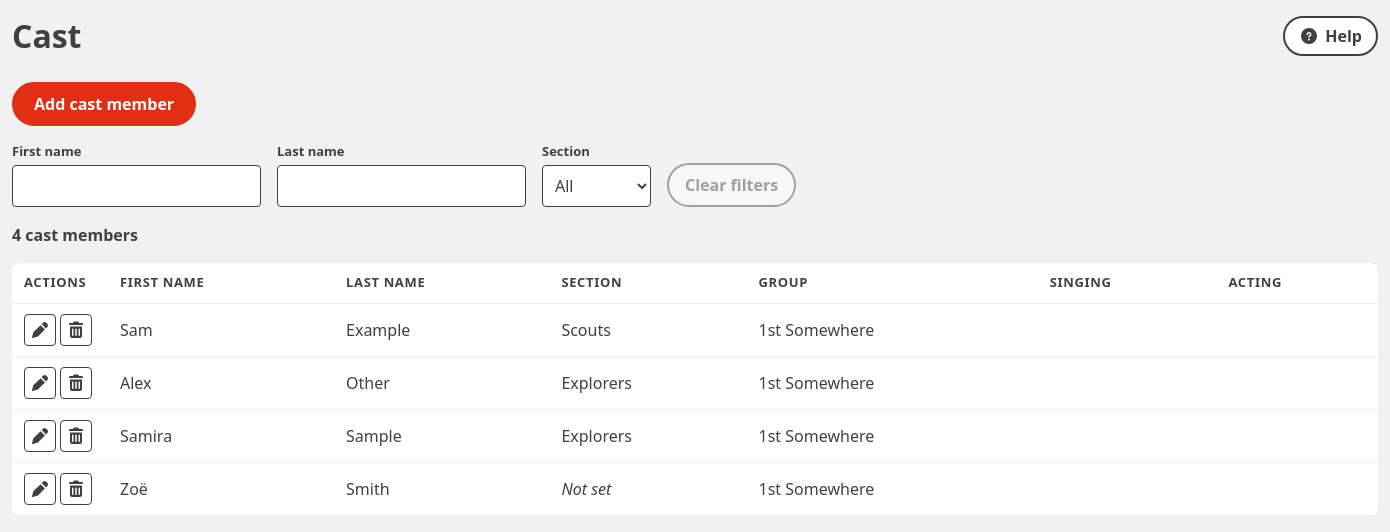
Test case: Cast page › filtering › clears every filter in one go
In the search field named "firstName": {"x": 136, "y": 186} [12,165,261,207], type "sam"
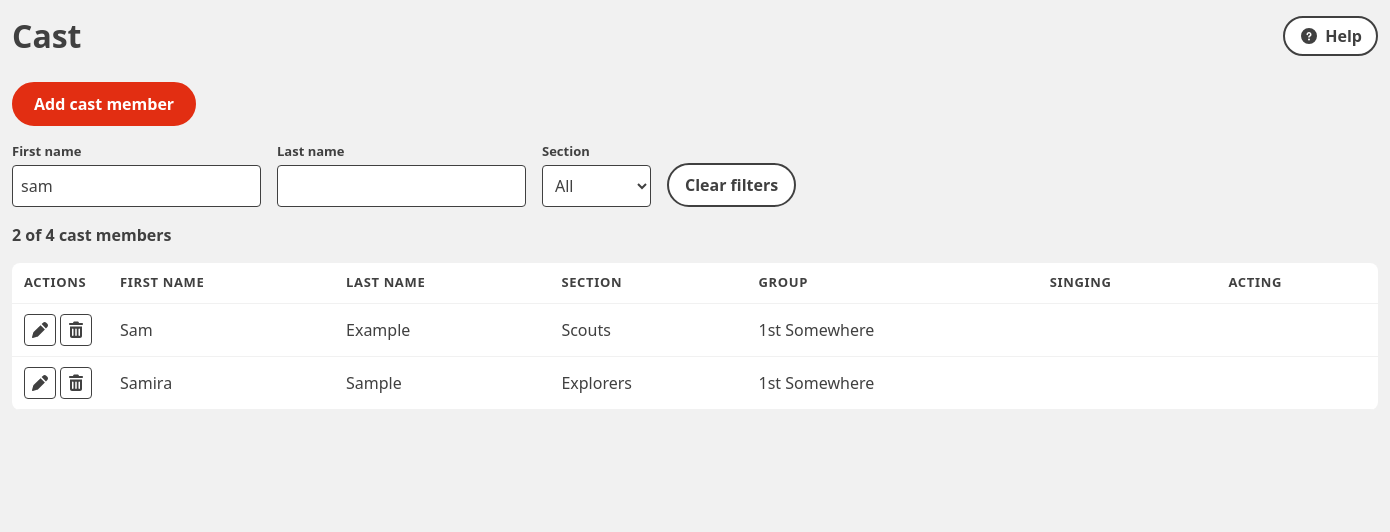
Select "Scouts" in the dropdown named "section": {"x": 596, "y": 186} [542,165,651,207]
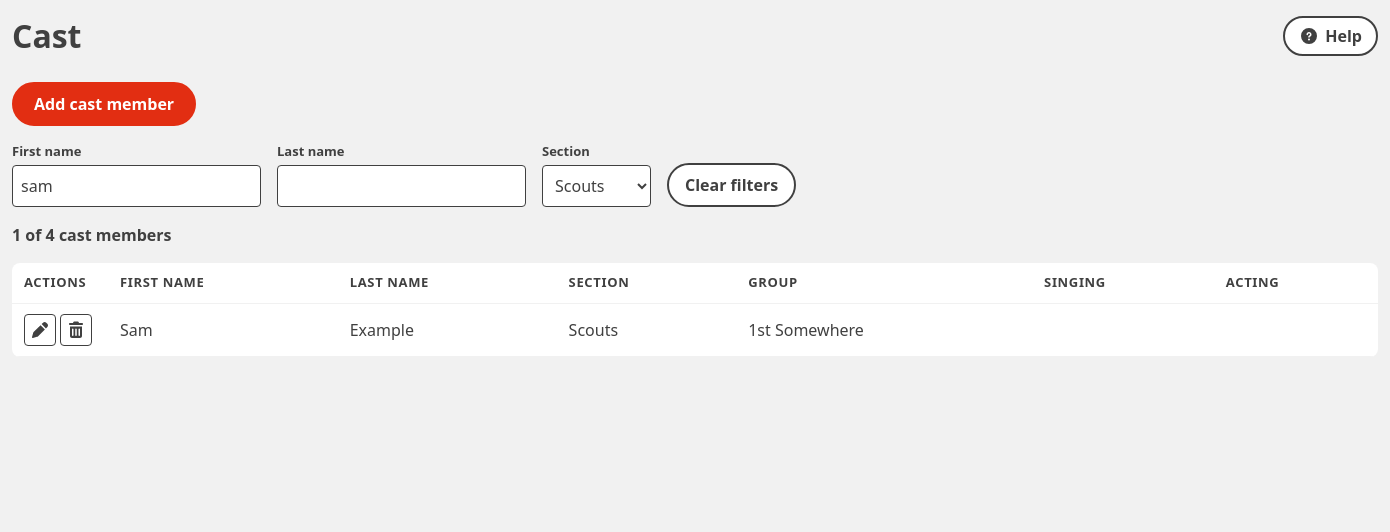
Click the button with test id "clear-filters": {"x": 732, "y": 185} [667,163,796,207]
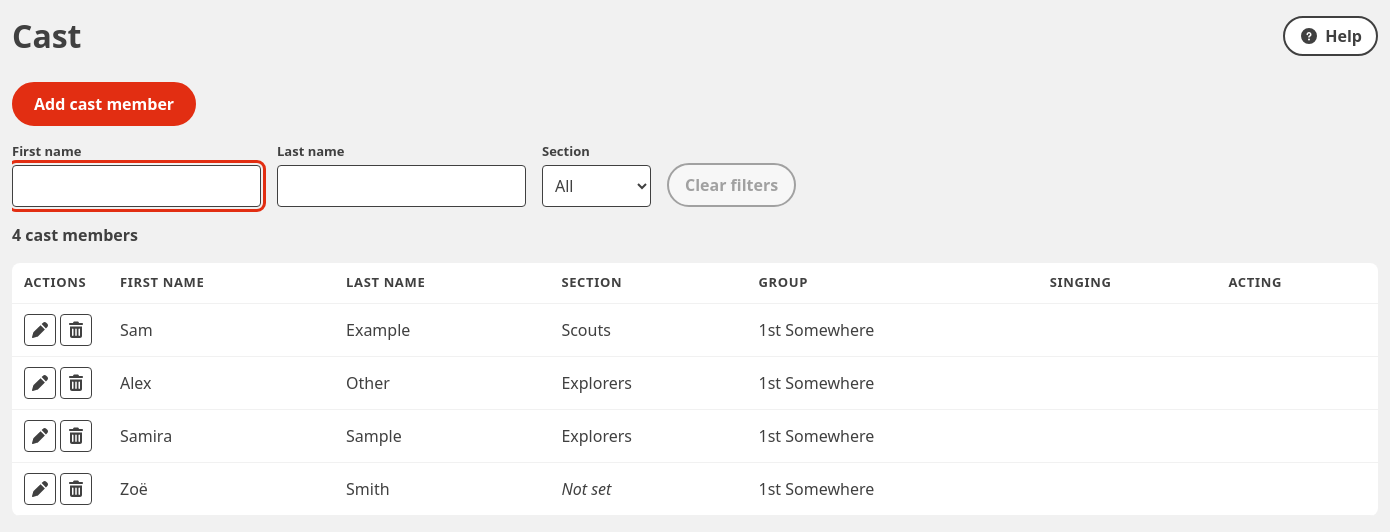
Expected: the search field named "lastName" is empty, [277,165,526,207]
Expected: the search field named "firstName" is empty, [12,165,261,207]
Expected: the message with test id "count" reads "4 cast members", [12,224,138,246]
